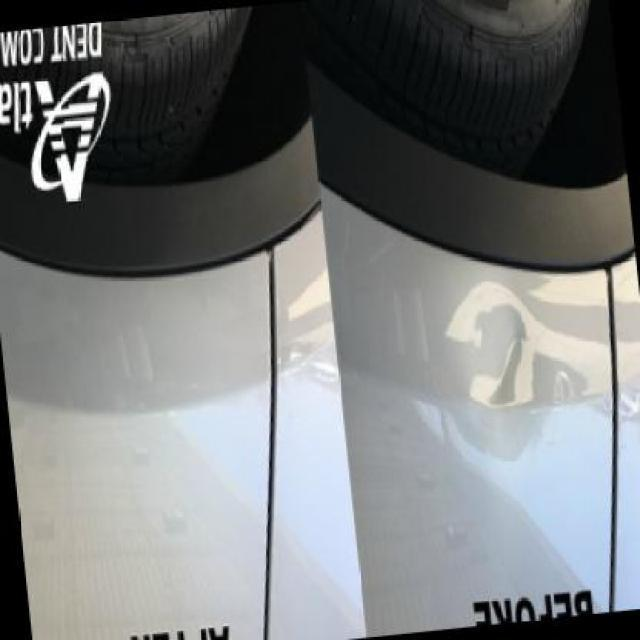dent: (442, 282, 552, 416)
